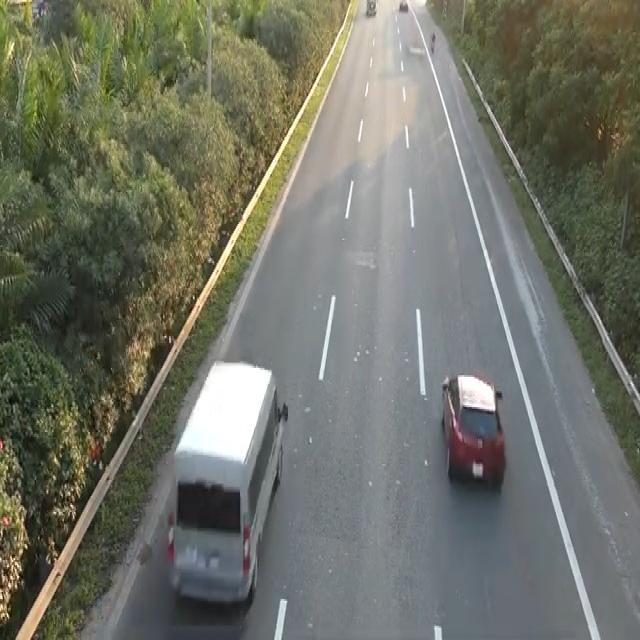bus: (439, 368, 510, 496)
jeep: (165, 354, 288, 606)
